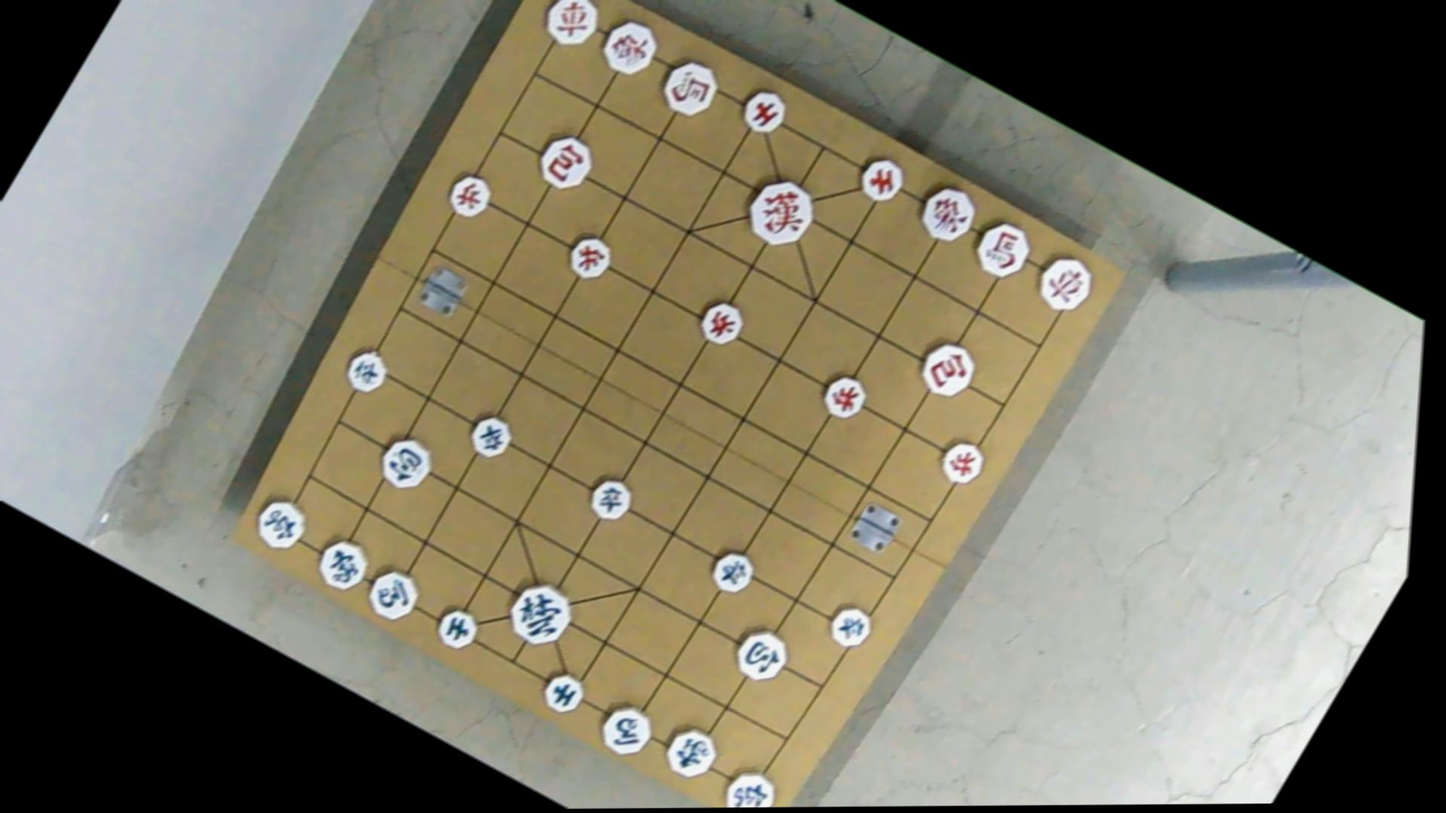cha_green: (243, 489, 316, 559), (713, 760, 784, 807)
cha_red: (1027, 248, 1103, 318), (532, 0, 609, 55)
jol_green: (581, 472, 641, 525), (703, 546, 764, 598), (336, 345, 395, 397), (460, 409, 518, 461), (822, 600, 879, 651)
jol_red: (557, 227, 620, 283), (931, 435, 993, 489), (814, 371, 874, 425), (438, 168, 499, 221), (690, 297, 751, 350)
ma_green: (590, 696, 662, 760), (355, 561, 426, 624)
ma_red: (963, 212, 1040, 282), (654, 52, 730, 121)
po_green: (724, 623, 796, 687), (369, 432, 440, 495)
po_red: (909, 333, 984, 400), (527, 127, 601, 192)
sa_green: (428, 602, 484, 653), (535, 668, 590, 717)
sa_red: (851, 151, 914, 211), (734, 83, 796, 138)
sang_green: (654, 719, 727, 783), (306, 531, 377, 596)
sang_red: (909, 178, 984, 251), (590, 12, 667, 83)
wang_green: (496, 574, 580, 650)
wang_red: (736, 172, 824, 251)
